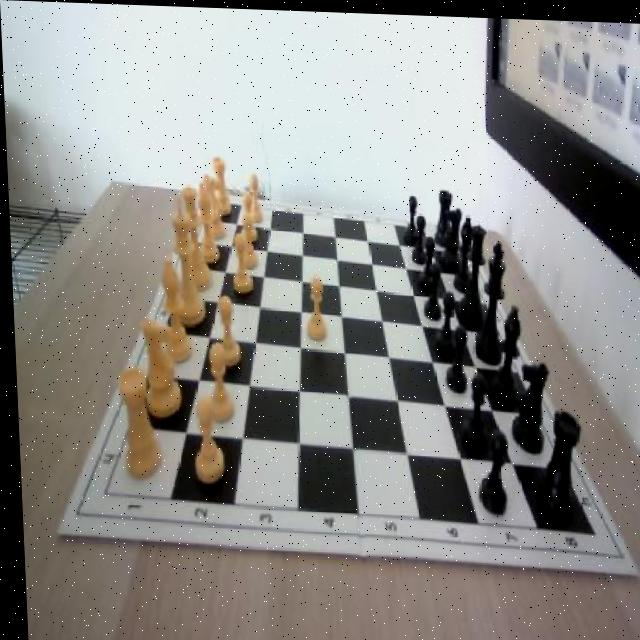bishop: (485, 300, 521, 400), (450, 210, 474, 288)
black-bishop: (466, 236, 507, 360)
black-king: (504, 358, 549, 450), (436, 201, 464, 266)
black-knight: (473, 424, 506, 512), (456, 367, 484, 453), (430, 286, 455, 357), (442, 322, 465, 390), (419, 260, 440, 318), (415, 235, 434, 291), (400, 193, 418, 245), (408, 211, 426, 260)
black-pawn: (453, 220, 488, 322)
black-queen: (532, 406, 579, 521), (431, 186, 452, 244)
black-rook: (155, 256, 188, 362), (194, 181, 218, 260)
white-bishop: (167, 193, 202, 323)
white-king: (137, 314, 180, 419), (198, 170, 224, 241)
white-knight: (186, 395, 222, 484), (201, 341, 233, 424), (210, 292, 238, 364), (229, 232, 252, 294), (303, 273, 324, 338), (237, 211, 258, 268), (239, 188, 255, 242), (246, 170, 260, 220)
white-pawn: (180, 187, 211, 292)
white-queen: (113, 366, 158, 479), (210, 155, 231, 215)
